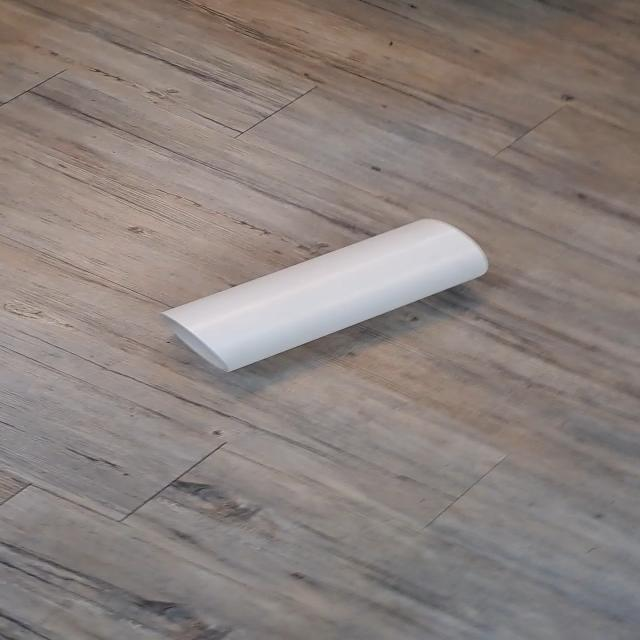CORAL: (155, 197, 504, 384)
